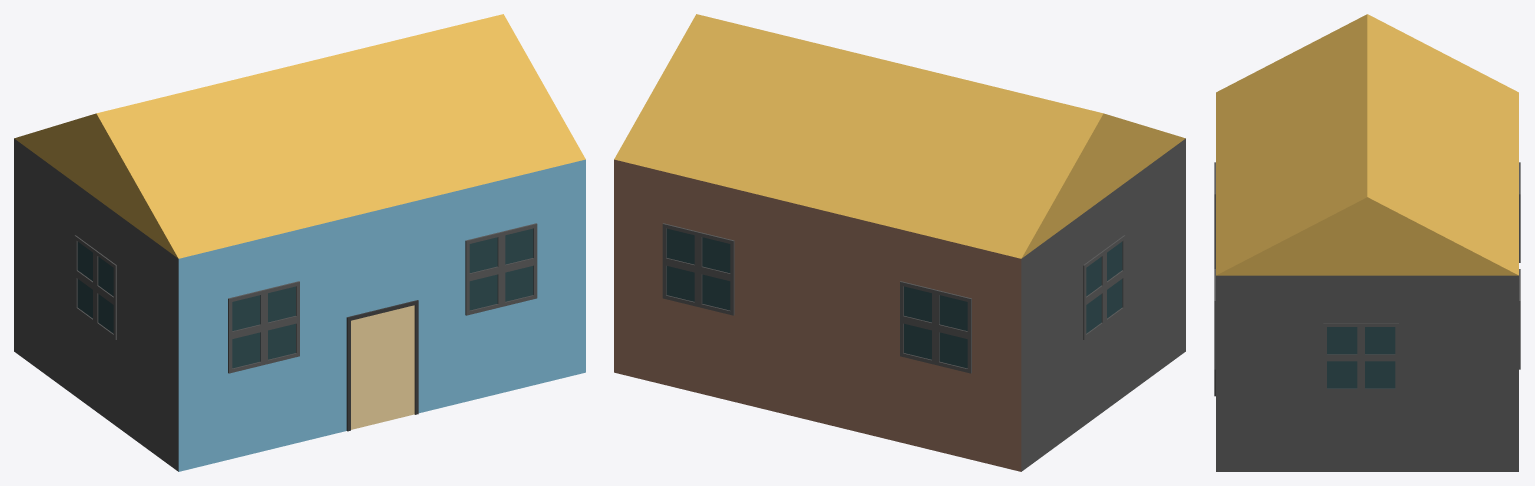
The model's file is House1_Model.fbx.
3 views of the same model, side by side, from view 1: azimuth 30°, elevation 25°; view 2: azimuth 150°, elevation 25°; view 3: azimuth 270°, elevation 25° (orthographic). The views are drawn at different scales.
Visible parts, largest first — view 1: House_wall_front, Roof, House_wall_Left; view 2: House_wall_back, Roof, House_wall_Left; view 3: Roof, House_wall_Right, House_wall_front, House_wall_back.
Boxes of the visible parts, bbox=[...] form: House_wall_front: bbox=[178, 159, 585, 471]; Roof: bbox=[14, 14, 585, 258]; House_wall_Left: bbox=[14, 138, 178, 471]; House_wall_back: bbox=[614, 159, 1021, 471]; Roof: bbox=[614, 14, 1185, 258]; House_wall_Left: bbox=[1021, 138, 1185, 471]; Roof: bbox=[1216, 14, 1518, 275]; House_wall_Right: bbox=[1216, 275, 1518, 471]; House_wall_front: bbox=[1214, 162, 1215, 396]; House_wall_back: bbox=[1519, 162, 1520, 369].
Size of the model in its own units: 690 by 480 by 486.
